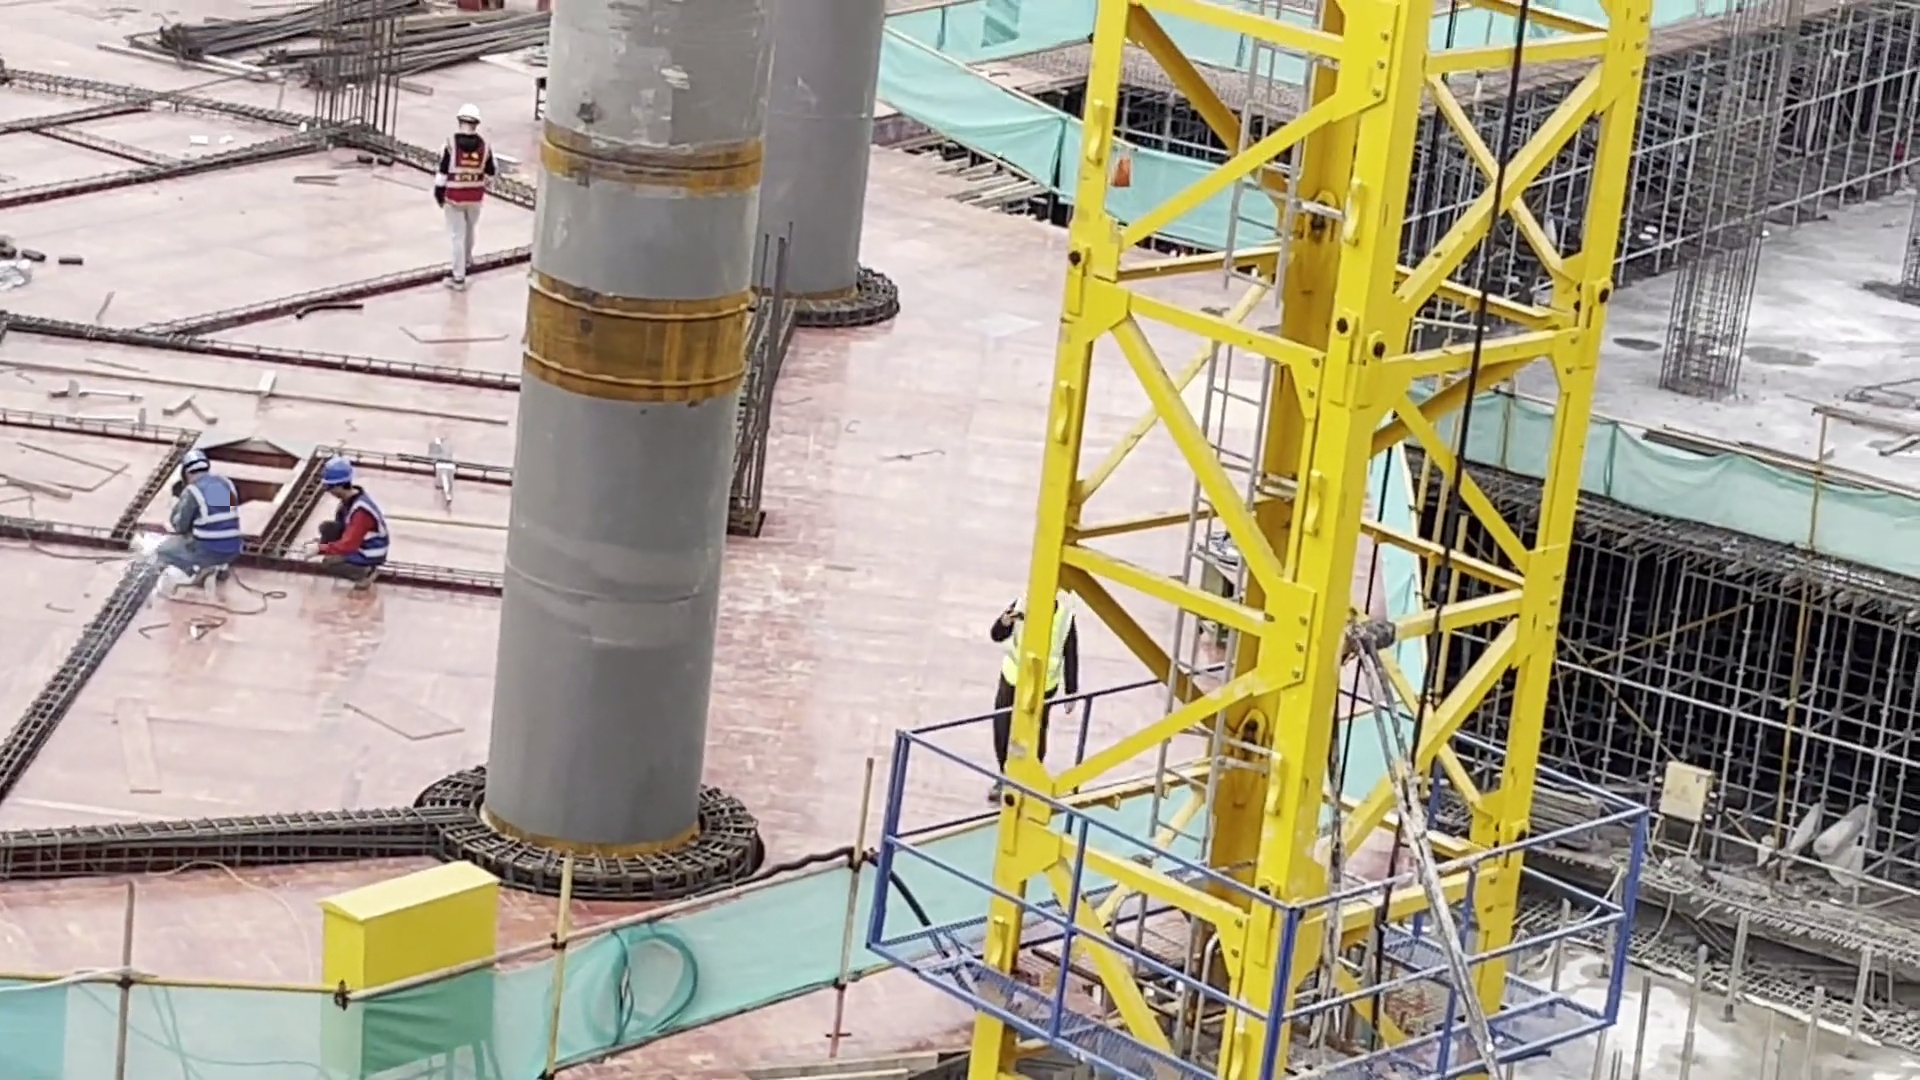person: (155, 445, 242, 597), (304, 454, 388, 592), (437, 99, 493, 294)
vest: (183, 476, 241, 559), (445, 133, 497, 206), (336, 497, 387, 566), (319, 457, 353, 485), (181, 447, 210, 478), (456, 103, 485, 122)
